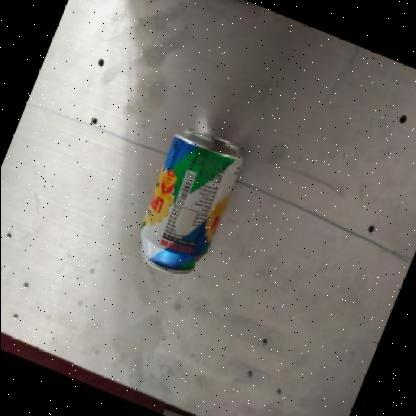Can: (140, 130, 242, 278)
